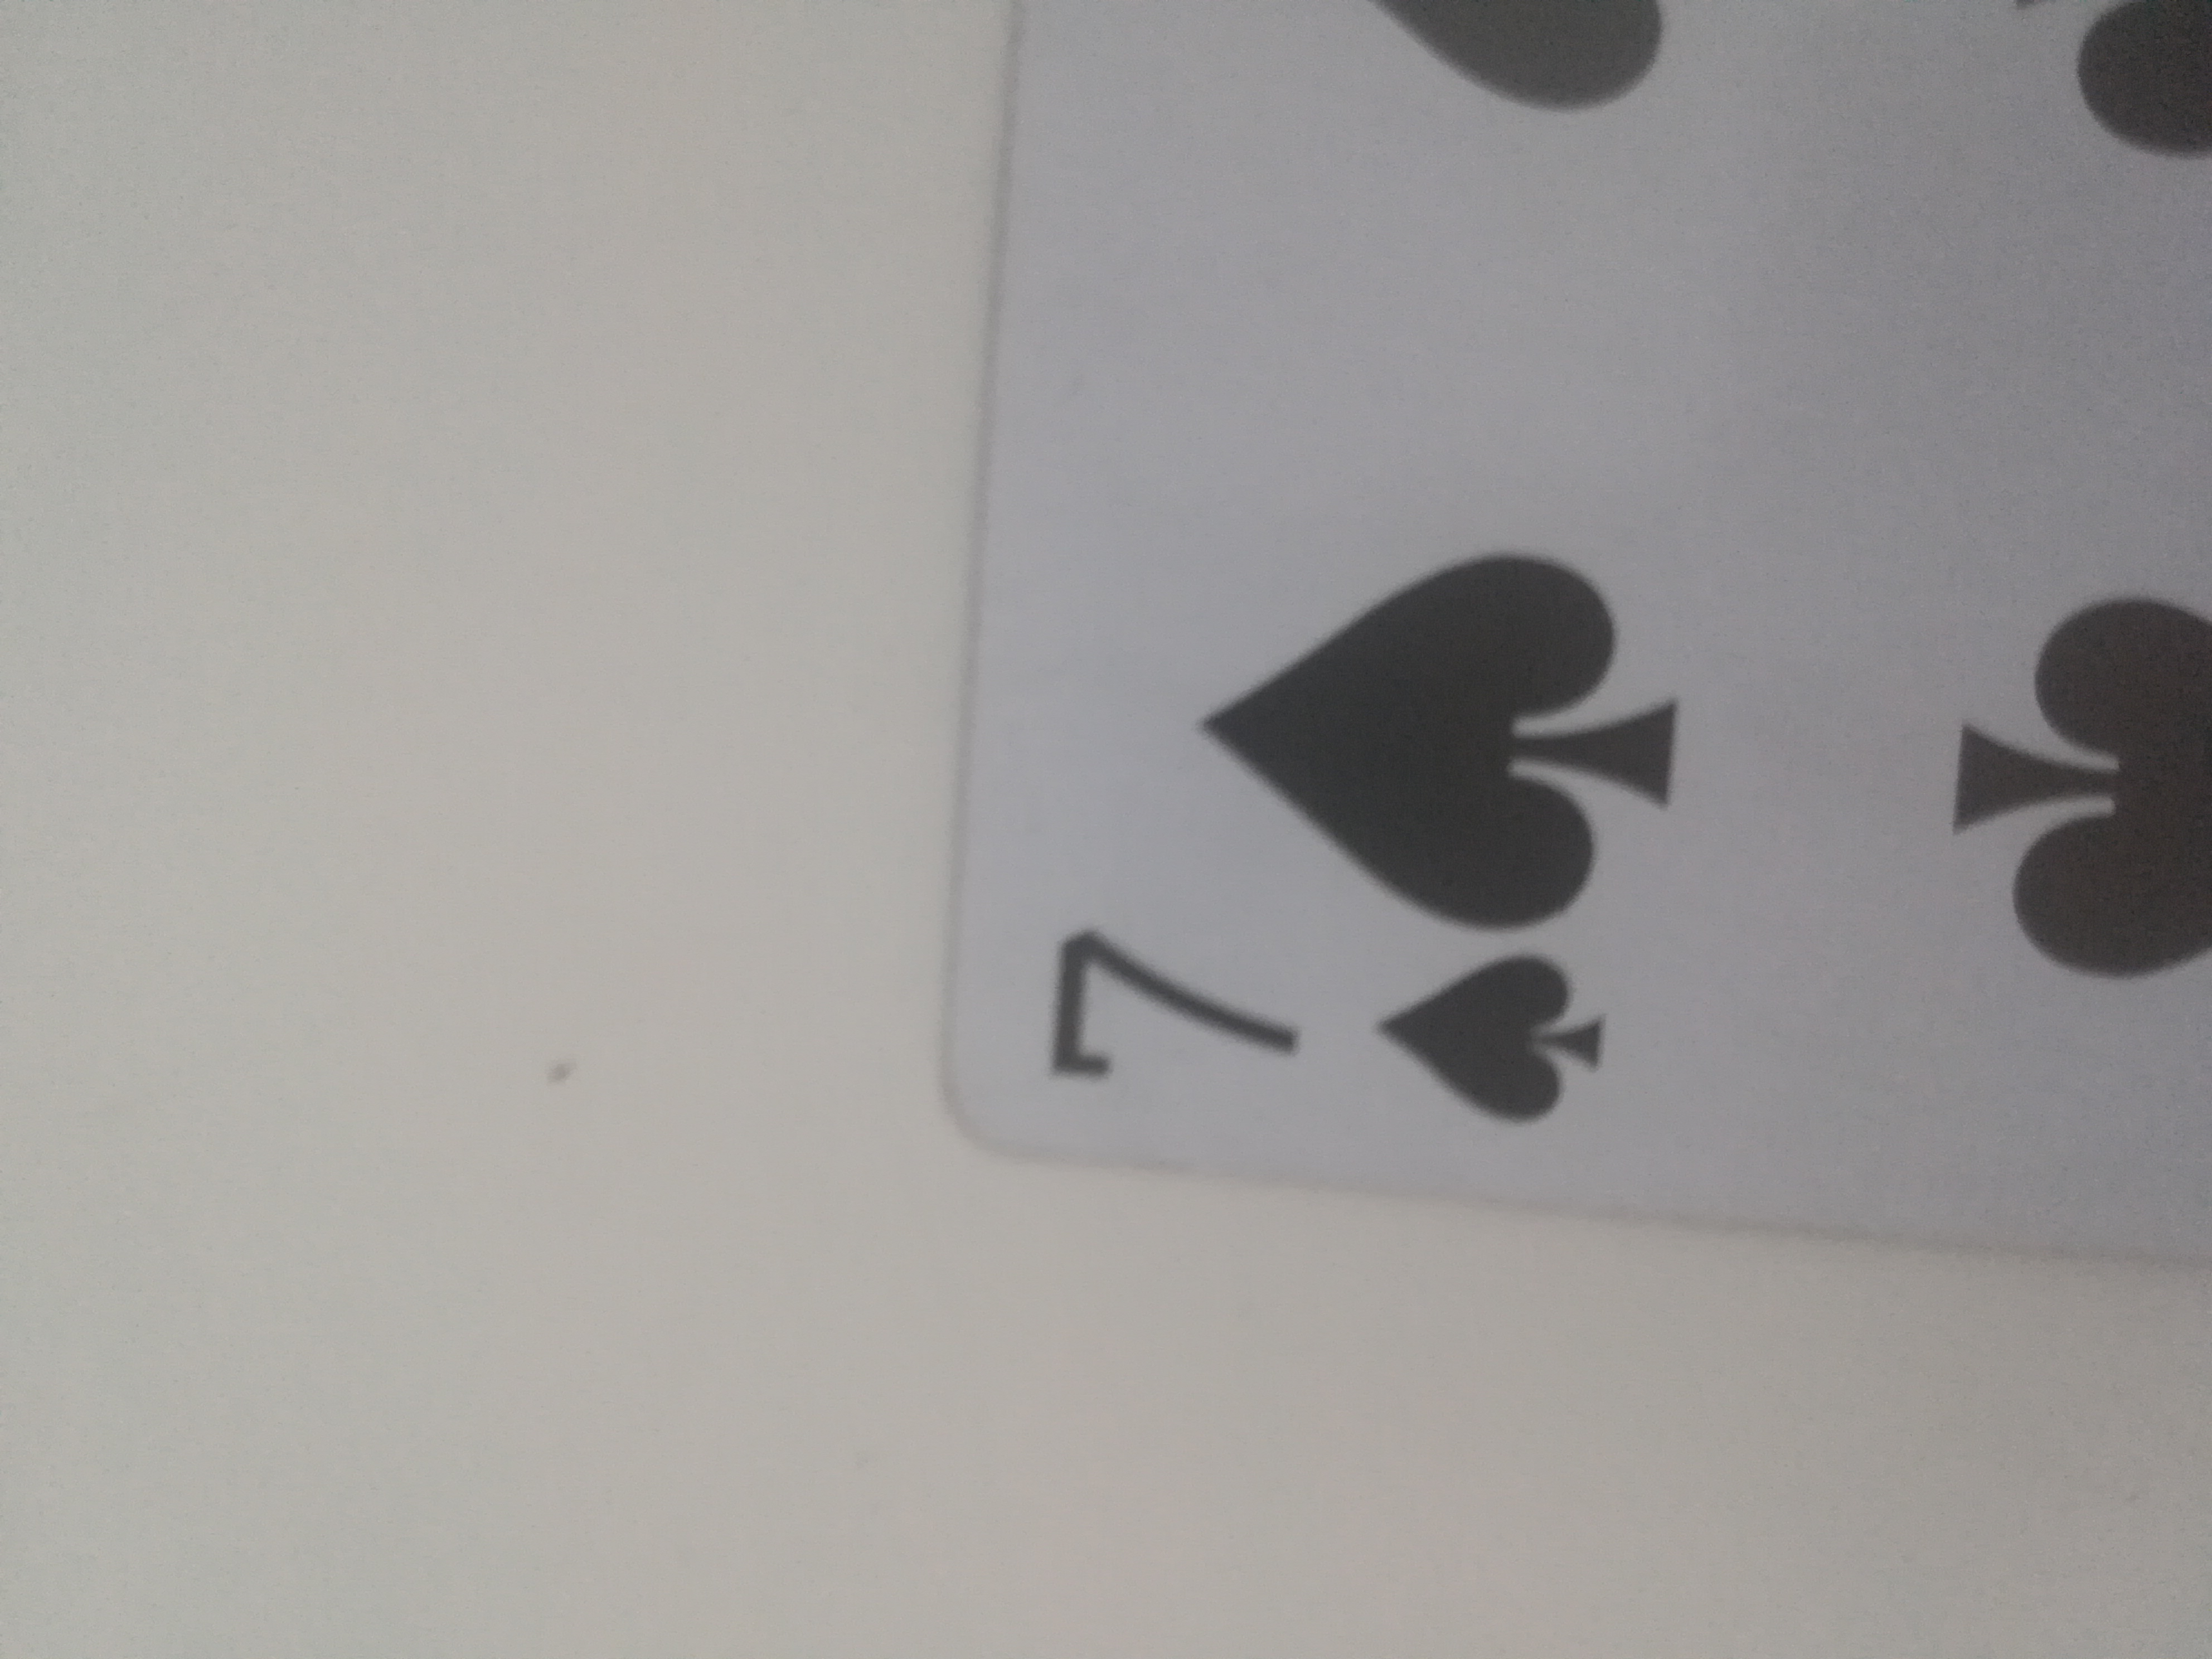7S: (946, 0, 2209, 1276)
